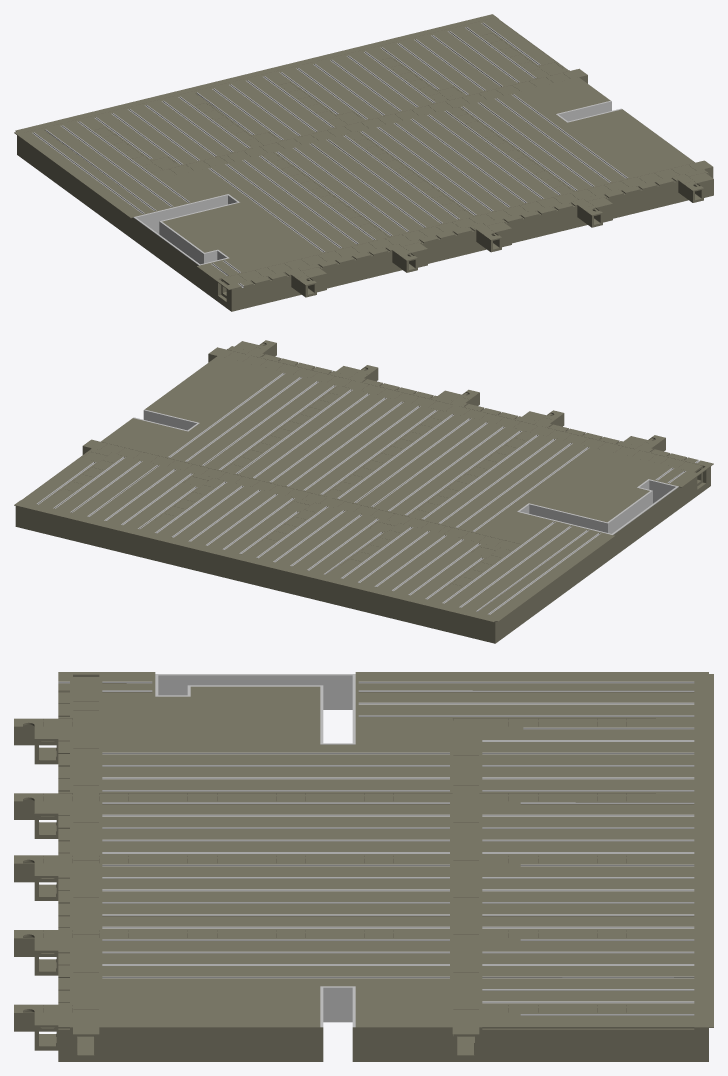
Rendered from spannfeld.dae.
The picture shows the model from 3 angles, top to bottom: view 1: azimuth 30°, elevation 25°; view 2: azimuth 150°, elevation 25°; view 3: azimuth 270°, elevation 25°; orthographic projection. The views are drawn at different scales.
Parts seen in each view (by area): view 1: Spannfeld; view 2: Spannfeld; view 3: Spannfeld.
Part boxes in pixels (x1,y1,x2,y2): Spannfeld: (14, 14, 713, 311); Spannfeld: (14, 340, 713, 643); Spannfeld: (14, 672, 713, 1061).
Bounding box in the file's own units: 14.55 × 11.88 × 0.65.
